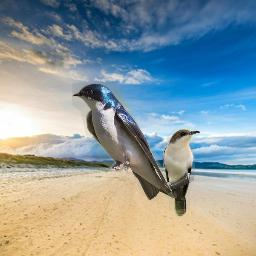Cuckoo: (163, 129, 200, 218)
Swallow: (72, 83, 179, 202)
